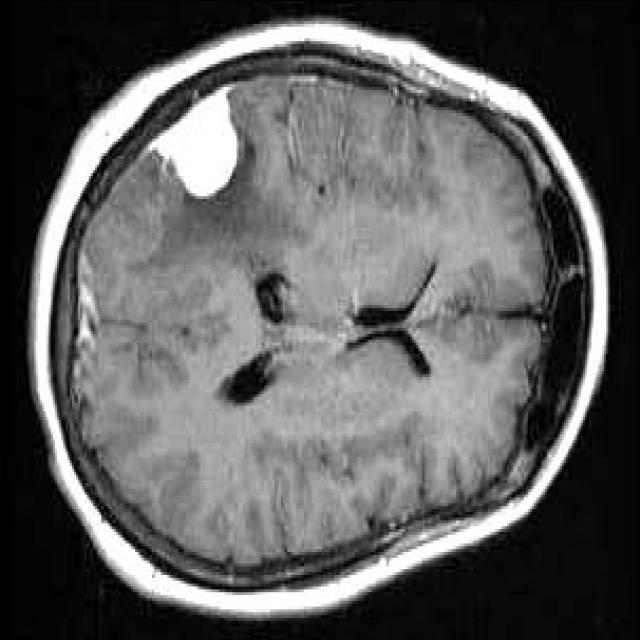tumor: (158, 92, 241, 195)
